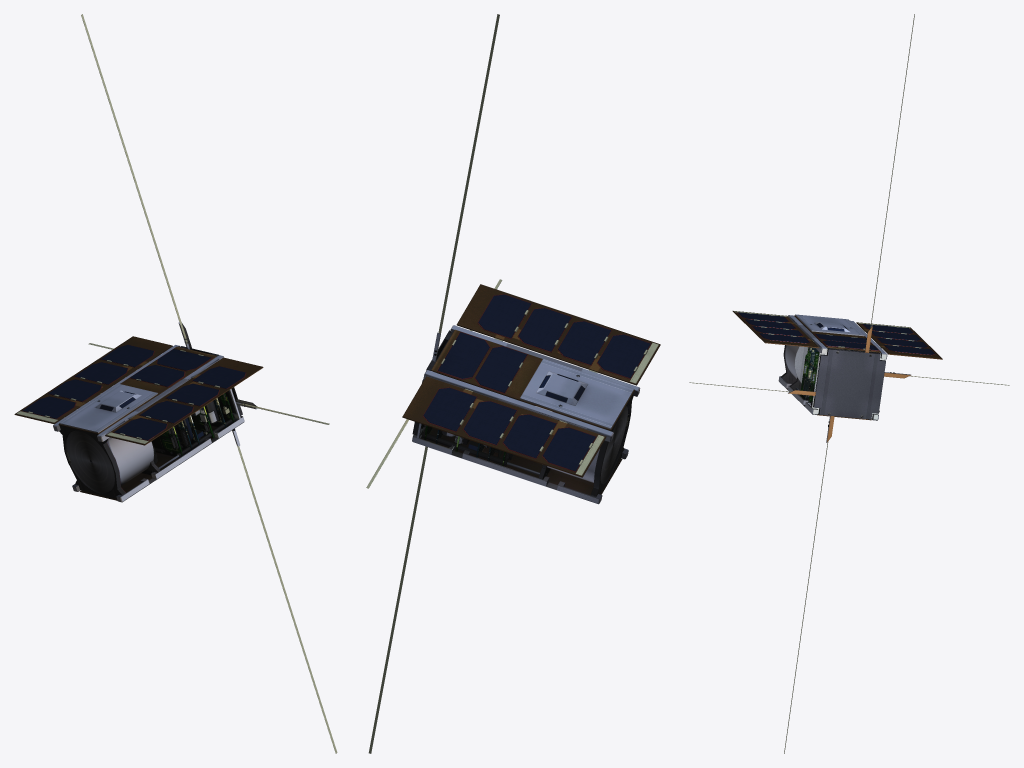
Rendered from satellite.glb.
3 views of the same model, side by side, from view 1: azimuth 30°, elevation 25°; view 2: azimuth 150°, elevation 25°; view 3: azimuth 270°, elevation 25° (orthographic). The views are drawn at different scales.
Visible parts, largest first — view 1: Object_3, Object_4, Object_2, Object_5, Object_6; view 2: Object_3, Object_2, Object_4, Object_5; view 3: Object_3, Object_2, Object_4, Object_5.
Part boxes in pixels (x1,y1,x2,y2): Object_3: [14, 14, 337, 753]; Object_4: [16, 323, 255, 499]; Object_2: [53, 322, 257, 502]; Object_5: [145, 362, 235, 469]; Object_6: [155, 393, 234, 453]; Object_3: [366, 14, 660, 753]; Object_2: [412, 324, 640, 504]; Object_4: [413, 314, 658, 498]; Object_5: [421, 372, 539, 475]; Object_3: [689, 14, 1008, 753]; Object_2: [692, 17, 1009, 749]; Object_4: [734, 311, 910, 419]; Object_5: [795, 334, 880, 405].
Bounding box in the file's own units: 38.35 × 106 × 46.58.
Materials: 2 (2 with a texture image).
